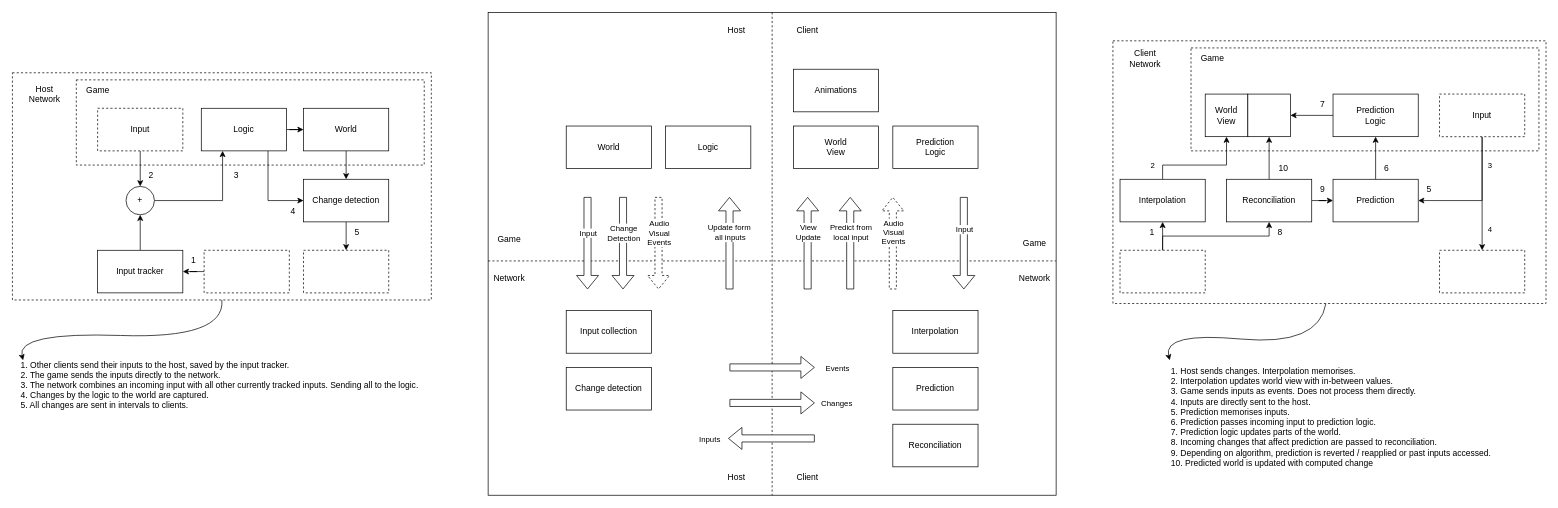
This 1558x508 diagram has some shape labels left out. Each missing label, with the centre of its shape:
Incoming Changes: the point at 1162,271
Incoming Inputs: the point at 246,271
Outgoing Changes: the point at 346,271
Outgoing Input: the point at 1482,271
World Predicted: the point at 1268,115
